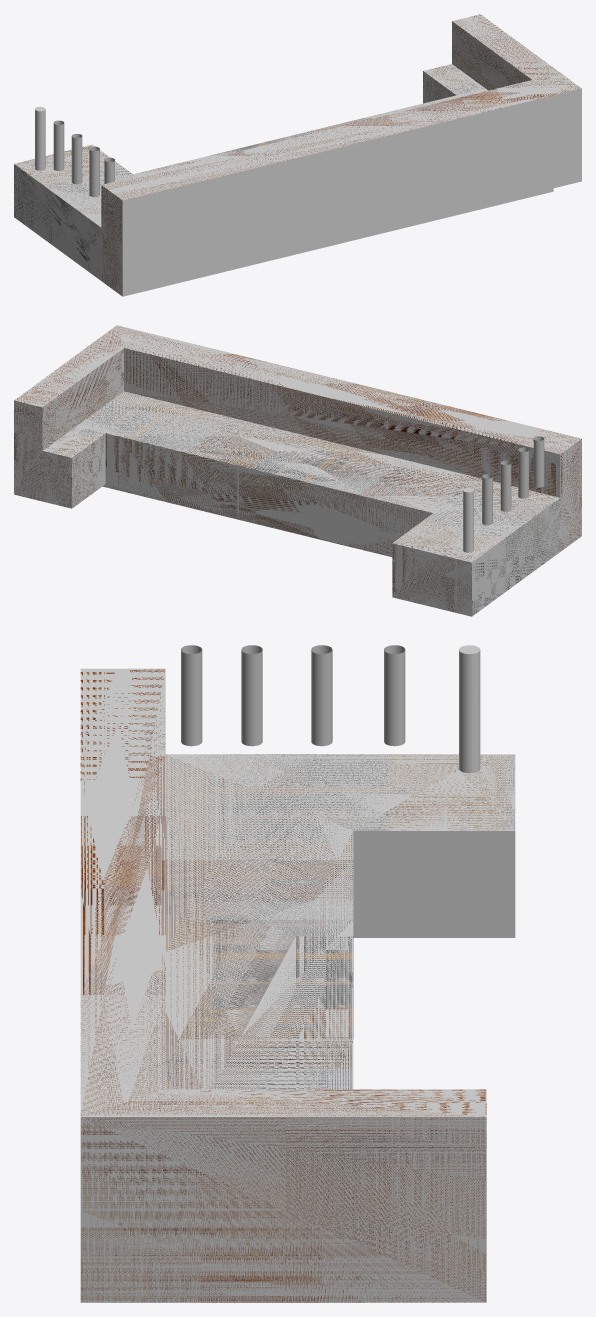
3 views of the same model, one above another, from view 1: azimuth 30°, elevation 25°; view 2: azimuth 150°, elevation 25°; view 3: azimuth 270°, elevation 25° (orthographic). The views are drawn at different scales.
Visible parts, largest first — view 1: mesh1_mesh1-geometry, mesh2_mesh2-geometry, mesh4_mesh4-geometry, mesh3_mesh3-geometry; view 2: mesh1_mesh1-geometry, mesh4_mesh4-geometry, mesh5_mesh5-geometry, mesh3_mesh3-geometry, mesh2_mesh2-geometry; view 3: mesh1_mesh1-geometry, mesh3_mesh3-geometry, mesh4_mesh4-geometry, mesh5_mesh5-geometry, mesh2_mesh2-geometry.
Part boxes in pixels (x1,y1,x2,y2): mesh1_mesh1-geometry: (14, 14, 581, 296); mesh2_mesh2-geometry: (53, 120, 64, 170); mesh4_mesh4-geometry: (71, 134, 82, 184); mesh3_mesh3-geometry: (89, 146, 99, 196); mesh1_mesh1-geometry: (14, 325, 581, 616); mesh4_mesh4-geometry: (500, 460, 511, 511); mesh5_mesh5-geometry: (533, 436, 544, 487); mesh3_mesh3-geometry: (518, 447, 528, 498); mesh2_mesh2-geometry: (482, 474, 492, 525); mesh1_mesh1-geometry: (80, 645, 515, 1302); mesh3_mesh3-geometry: (241, 645, 262, 746); mesh4_mesh4-geometry: (311, 645, 332, 746); mesh5_mesh5-geometry: (181, 645, 202, 746); mesh2_mesh2-geometry: (384, 645, 405, 746).
Size of the model in its own units: 0.9041 by 0.2125 by 0.3707.
